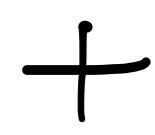plus: (23, 21, 149, 121)
